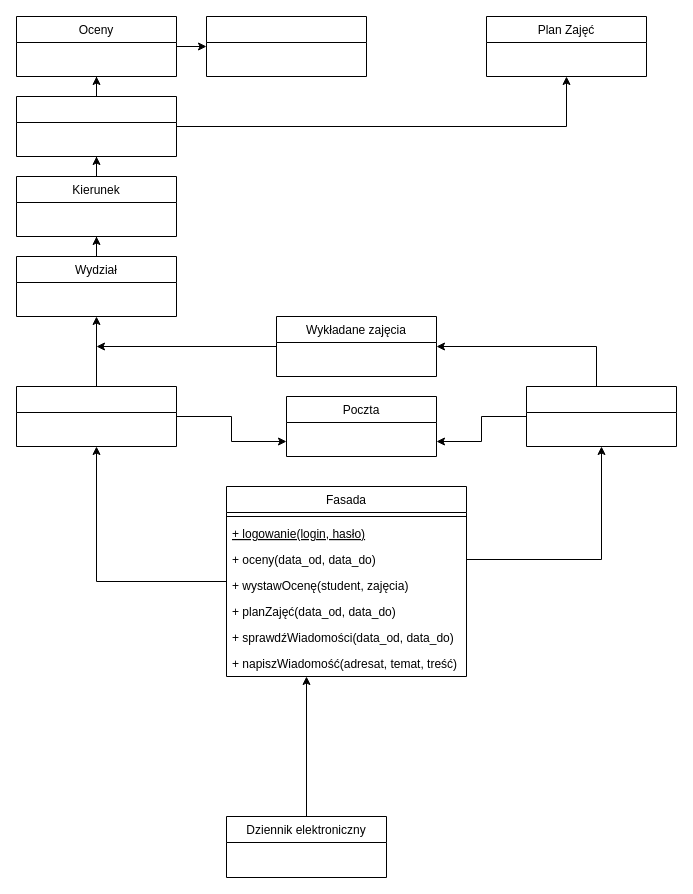
Some shapes in this 693 by 894 pixel diagram are drawn without their labels. The shapes that lost their labels are listed below. From the top down, each one's centre as x and y in pixels, then its label:
At (286,46): "Wystaw Ocenę".
At (96,126): "Rok".
At (96,416): "Konto Studenta".
At (601,416): "Konto Wykładowcy".
